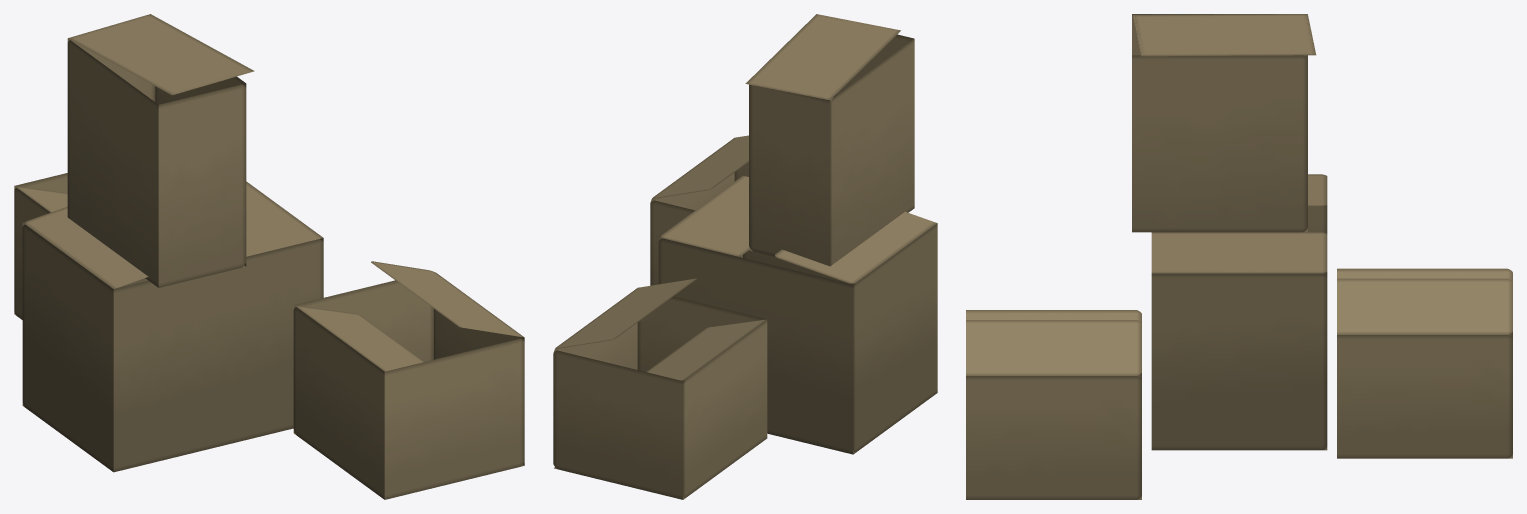
File: cardboard_boxes2.obj
The picture shows the model from 3 angles, left to right: view 1: azimuth 30°, elevation 25°; view 2: azimuth 150°, elevation 25°; view 3: azimuth 270°, elevation 25°; orthographic projection. The views are drawn at different scales.
Parts seen in each view (by area): view 1: baseModel2, baseModel24, baseModel0, baseModel15, baseModel16, baseModel20, baseModel19, baseModel22, baseModel6, baseModel23, baseModel21, baseModel5 (+6 smaller); view 2: baseModel1, baseModel8, baseModel0, baseModel15, baseModel14, baseModel7, baseModel19, baseModel9, baseModel5, baseModel6, baseModel12, baseModel13 (+6 smaller); view 3: baseModel3, baseModel17, baseModel25, baseModel10, baseModel12, baseModel23, baseModel5, baseModel19, baseModel13, baseModel21, baseModel6.
Part boxes in pixels (bbox=[...]): baseModel2: bbox=[113, 239, 323, 472]; baseModel24: bbox=[384, 338, 524, 499]; baseModel0: bbox=[22, 224, 113, 471]; baseModel15: bbox=[67, 40, 158, 287]; baseModel16: bbox=[158, 84, 246, 287]; baseModel20: bbox=[293, 307, 384, 499]; baseModel19: bbox=[68, 14, 254, 95]; baseModel22: bbox=[293, 280, 433, 433]; baseModel6: bbox=[25, 207, 148, 288]; baseModel23: bbox=[371, 261, 524, 337]; baseModel21: bbox=[296, 305, 424, 371]; baseModel5: bbox=[246, 181, 323, 256]; baseModel1: bbox=[658, 238, 853, 454]; baseModel8: bbox=[553, 350, 683, 499]; baseModel0: bbox=[853, 223, 937, 452]; baseModel15: bbox=[830, 39, 914, 265]; baseModel14: bbox=[749, 84, 830, 266]; baseModel7: bbox=[683, 320, 767, 498]; baseModel19: bbox=[745, 14, 900, 100]; baseModel9: bbox=[637, 296, 766, 383]; baseModel5: bbox=[661, 175, 750, 256]; baseModel6: bbox=[775, 211, 937, 283]; baseModel12: bbox=[556, 278, 697, 348]; baseModel13: bbox=[646, 319, 766, 380]; baseModel3: bbox=[1151, 273, 1327, 450]; baseModel17: bbox=[1132, 55, 1307, 232]; baseModel25: bbox=[966, 376, 1141, 499]; baseModel10: bbox=[1337, 335, 1512, 458]; baseModel12: bbox=[1337, 278, 1512, 334]; baseModel23: bbox=[966, 320, 1141, 375]; baseModel5: bbox=[1151, 232, 1327, 273]; baseModel19: bbox=[1133, 14, 1316, 56]; baseModel13: bbox=[1337, 268, 1512, 281]; baseModel21: bbox=[966, 310, 1141, 322]; baseModel6: bbox=[1308, 174, 1327, 206].
Size of the model in its own units: 1.12 by 1.27 by 1.75.
1 material, 1 textured.
